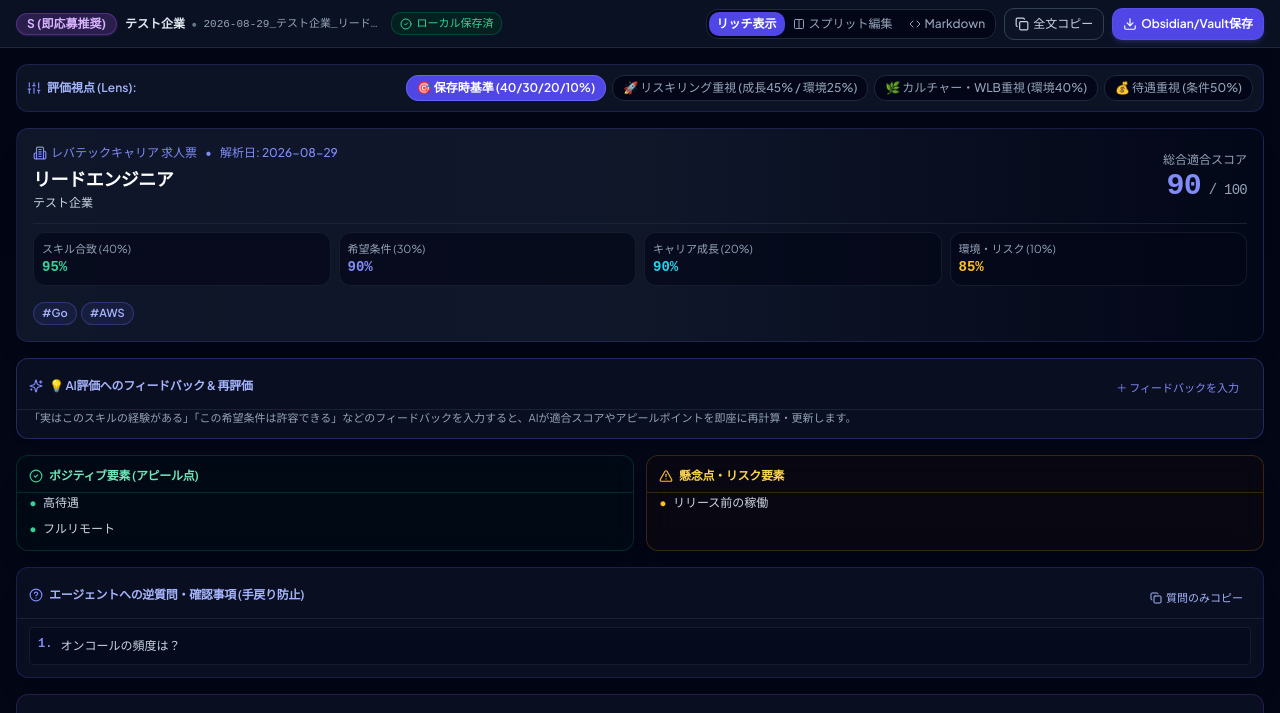
it: PreviewPane Component › switches to split editor mode and raw mode on tab click
This screenshot has width=1280, height=713.
// Click split mode
Step 1. Click the button "スプリット編集" → (842, 24), box [784, 12, 900, 36]
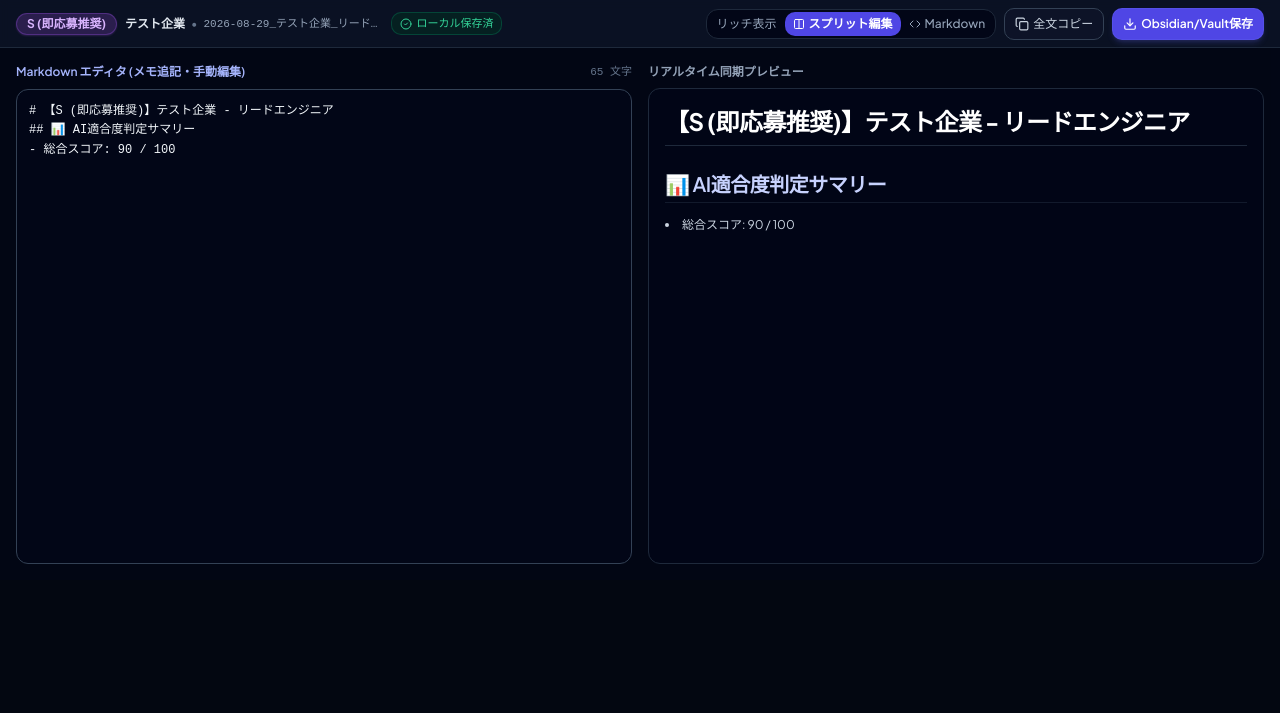
Now the text "Markdown エディタ (メモ追記・手動編集)" is shown, box [16, 64, 245, 80]
Now the text "リアルタイム同期プレビュー" is shown, box [648, 64, 804, 79]
// Click raw mode
Step 2. Click the button "Markdown" → (947, 24), box [900, 12, 993, 36]
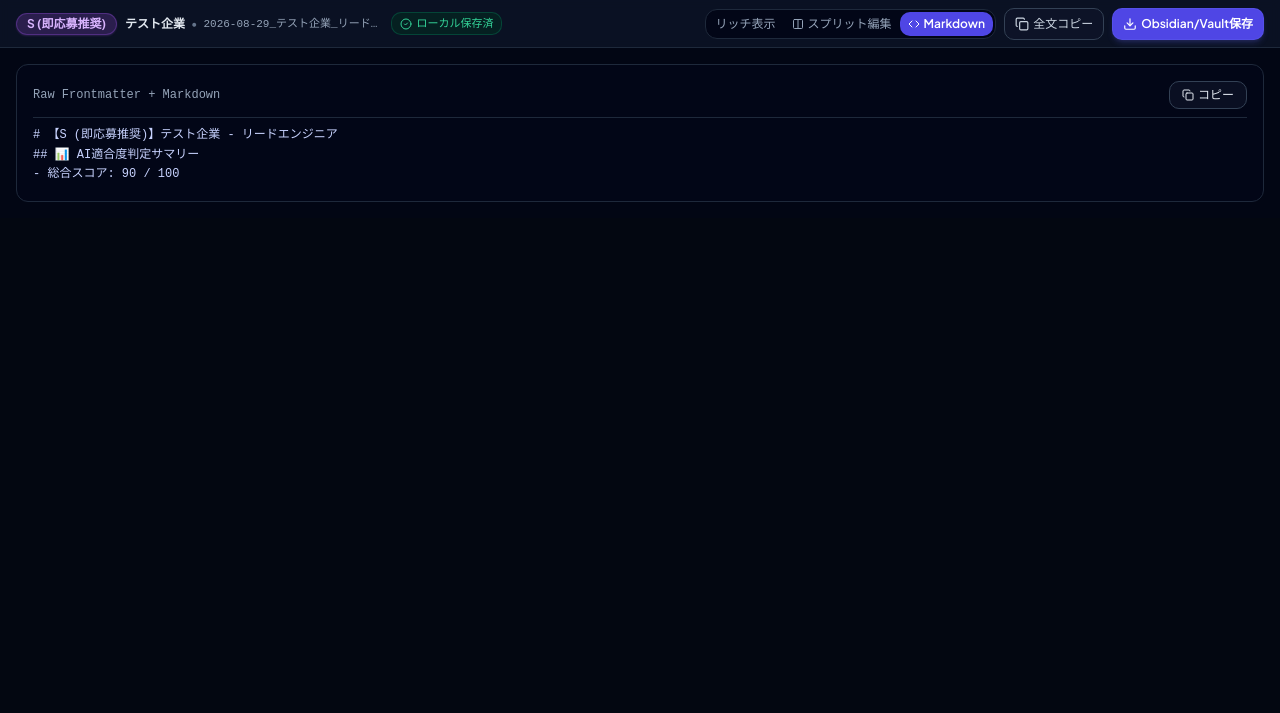
Now the text "Raw Frontmatter + Markdown" is shown, box [33, 87, 220, 103]
